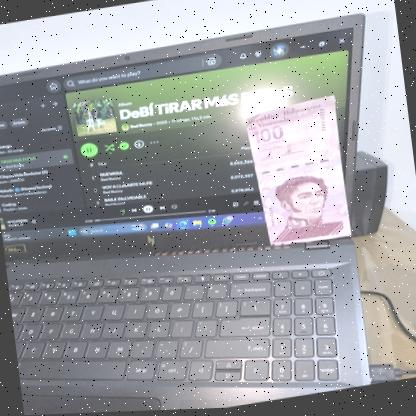one_hundred-front-vef: (242, 96, 352, 252)
